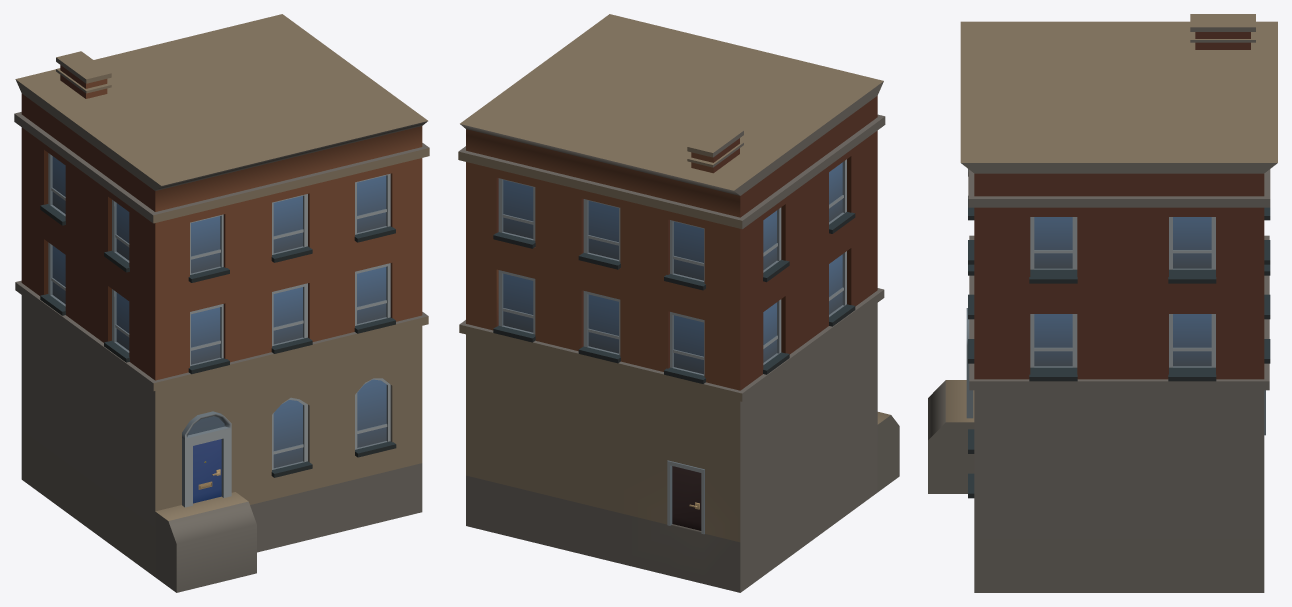
3 views of the same model, side by side, from view 1: azimuth 30°, elevation 25°; view 2: azimuth 150°, elevation 25°; view 3: azimuth 270°, elevation 25° (orthographic). The views are drawn at different scales.
Parts seen in each view (by area): view 1: base.249; view 2: base.249; view 3: base.249.
Part boxes in pixels (x1,y1,x2,y2): base.249: [14, 14, 429, 592]; base.249: [458, 14, 899, 592]; base.249: [928, 14, 1277, 592].
Size of the model in its own units: 0.3463 by 0.5 by 0.3496.
